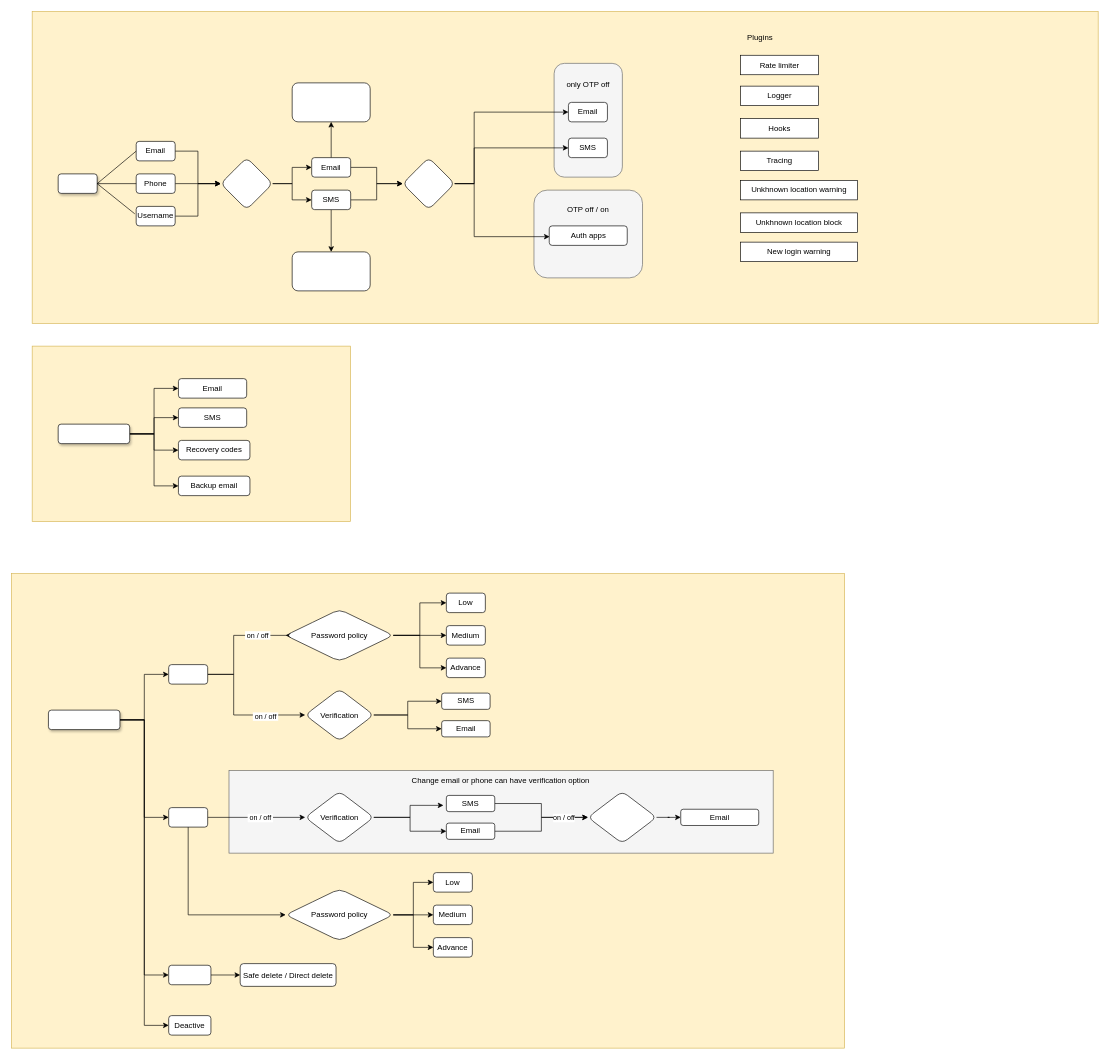
Image size: 1110x1060. Some labels were removed from this diagram. The centre of each missing label's shape, as x and y in pixels:
"2FA" goes at (x=428, y=183).
"Adjustable" goes at (x=621, y=817).
"Create" goes at (x=188, y=674).
"Delete" goes at (x=189, y=975).
"Email Template Editor" goes at (x=331, y=102).
"Login" goes at (x=78, y=184).
"OTP / PASSWORd" goes at (x=246, y=183).
"Password Reset" goes at (x=94, y=434).
"SMS templates" goes at (x=331, y=271).
"Update" goes at (x=188, y=817).
"User" goes at (x=84, y=720).
